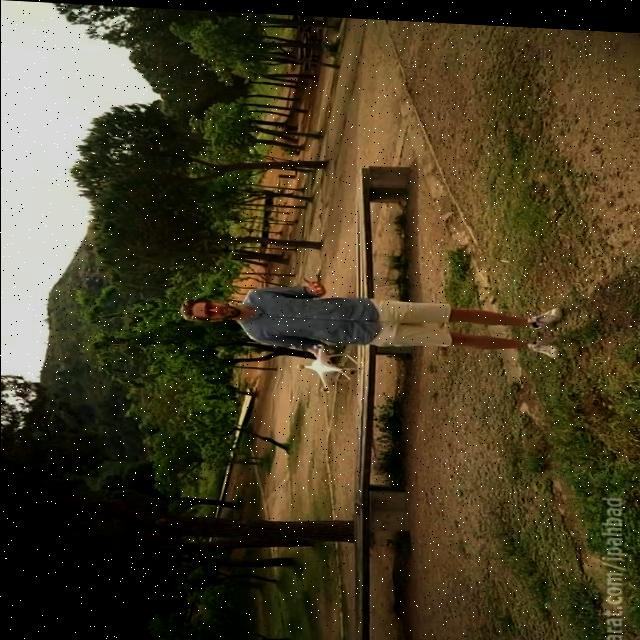drone: (296, 339, 360, 392)
